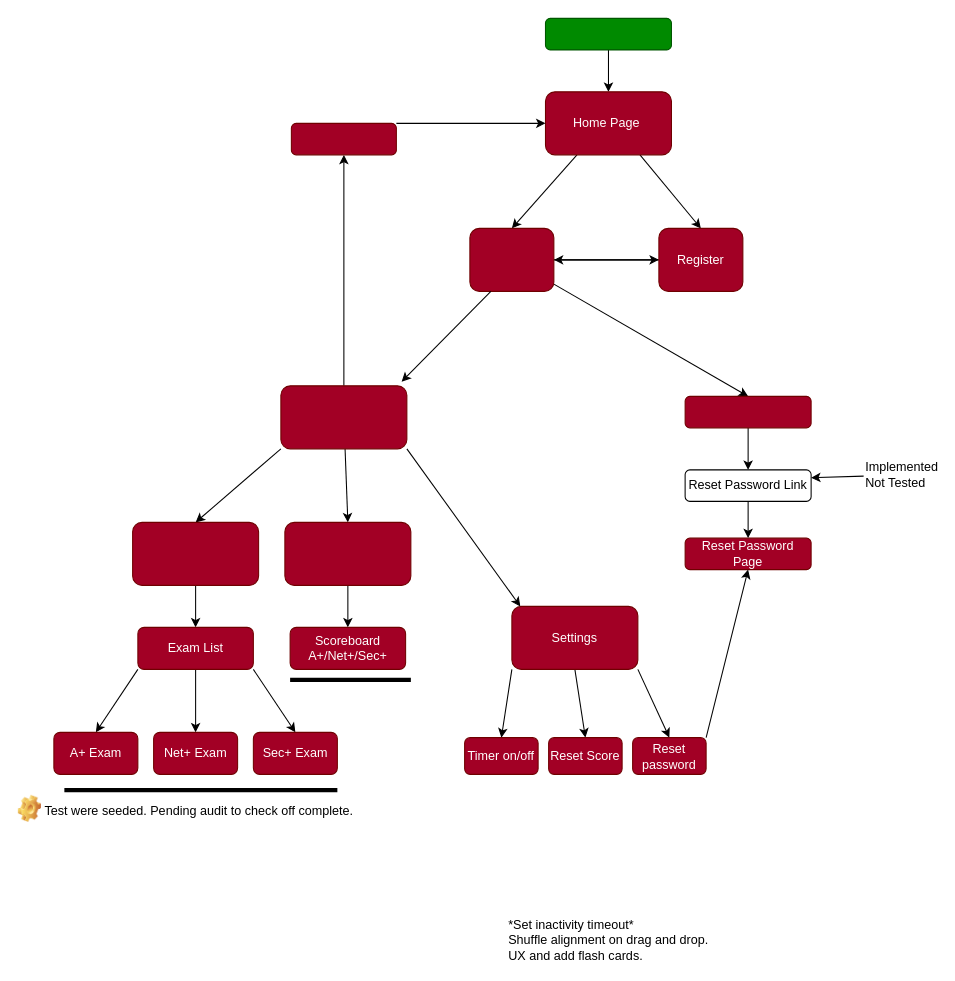
This 955x981 diagram has some shape labels left out. The shapes that lost their labels are listed below. From the top down, each one's box as (x1, y1, x2, y2) in pixels, then its label:
(544, 17, 671, 50): Practice Exam App
(290, 122, 396, 155): Logout
(469, 227, 554, 291): Login Page
(280, 385, 407, 449): Dashboard
(684, 395, 811, 428): Reset Password Email
(132, 521, 259, 585): Start Exam
(284, 521, 411, 585): Scoreboard
